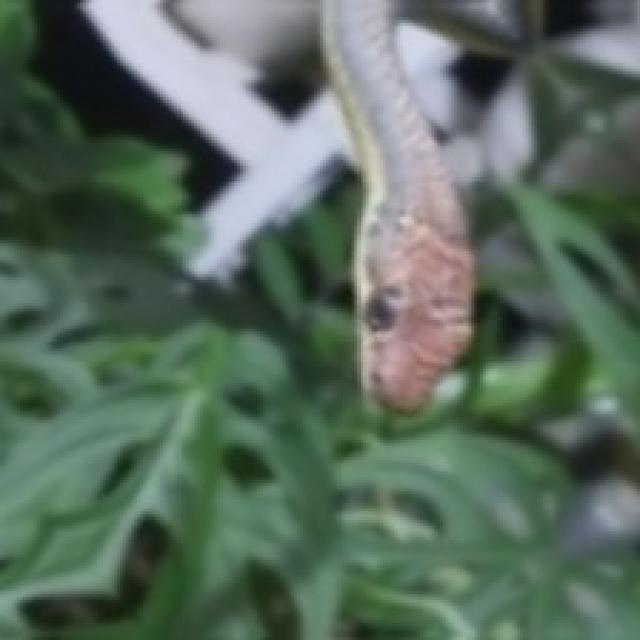paradise tree snake: (323, 0, 471, 409)
